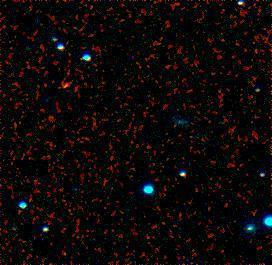star: (46, 74, 76, 104)
